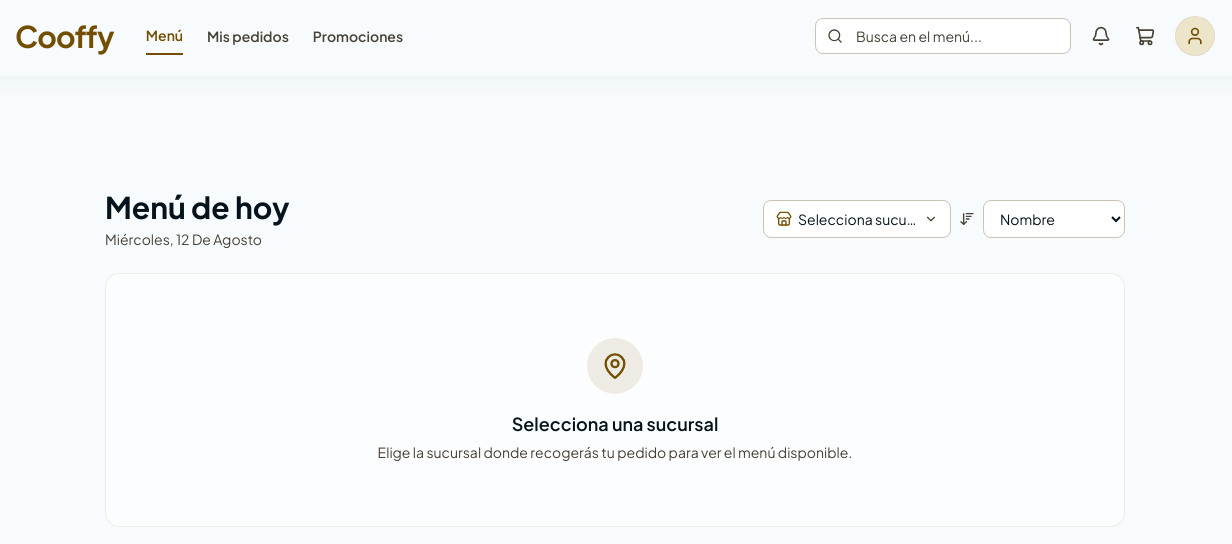
Test case: MenuView search and filters › shows an empty-results message when the search returns no products
Click the button "Selecciona sucursal".
click(857, 219)  # box 763,200 -> 951,238
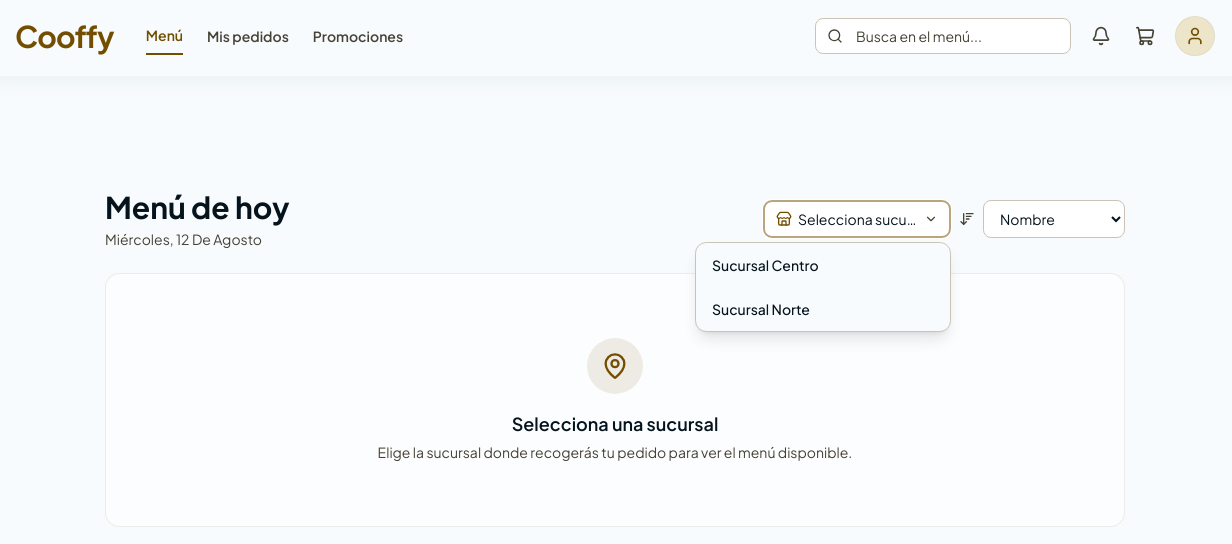
Click the button "Sucursal Centro".
click(823, 265)  # box 696,243 -> 950,287
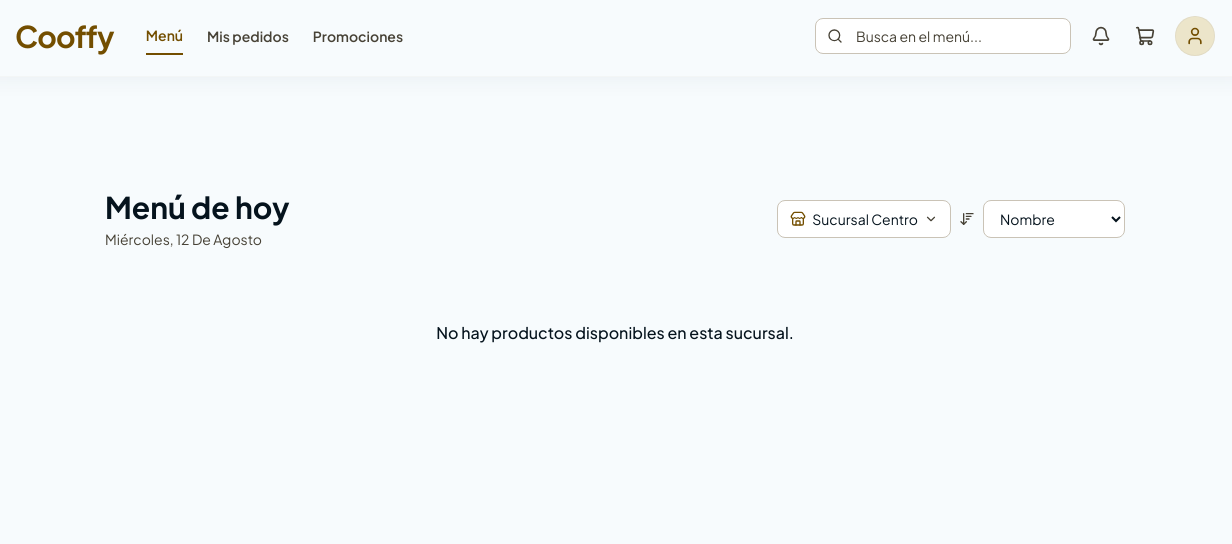
Type "xyz123" into the field with placeholder "Busca en el menú...".
click(943, 36); type("xyz123")  # box 815,18 -> 1071,54
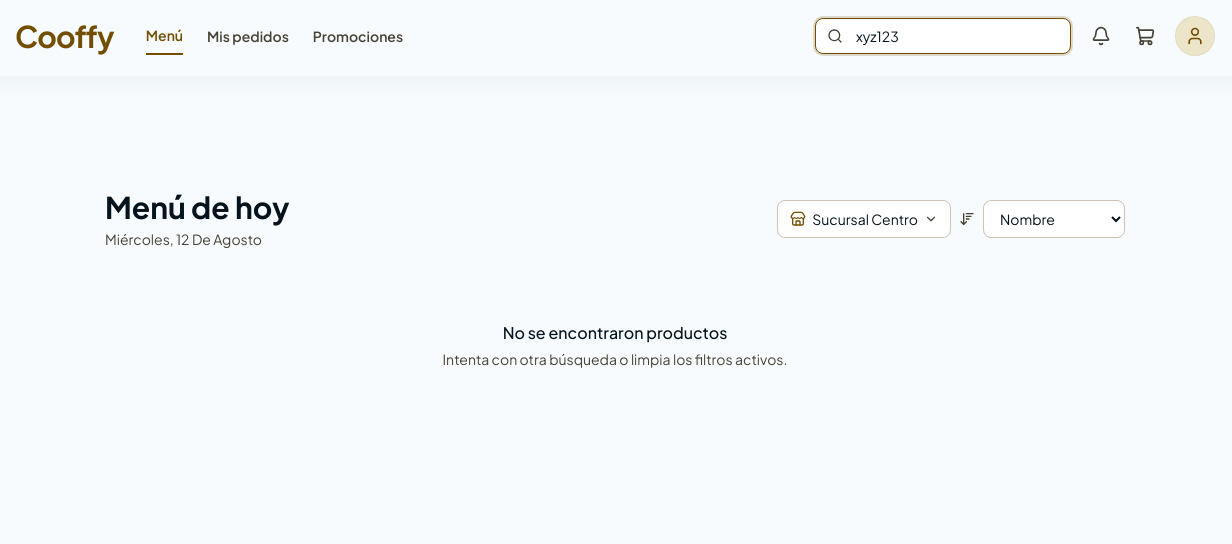
Expected: the text "No se encontraron productos" is shown, 503,321 -> 727,345
